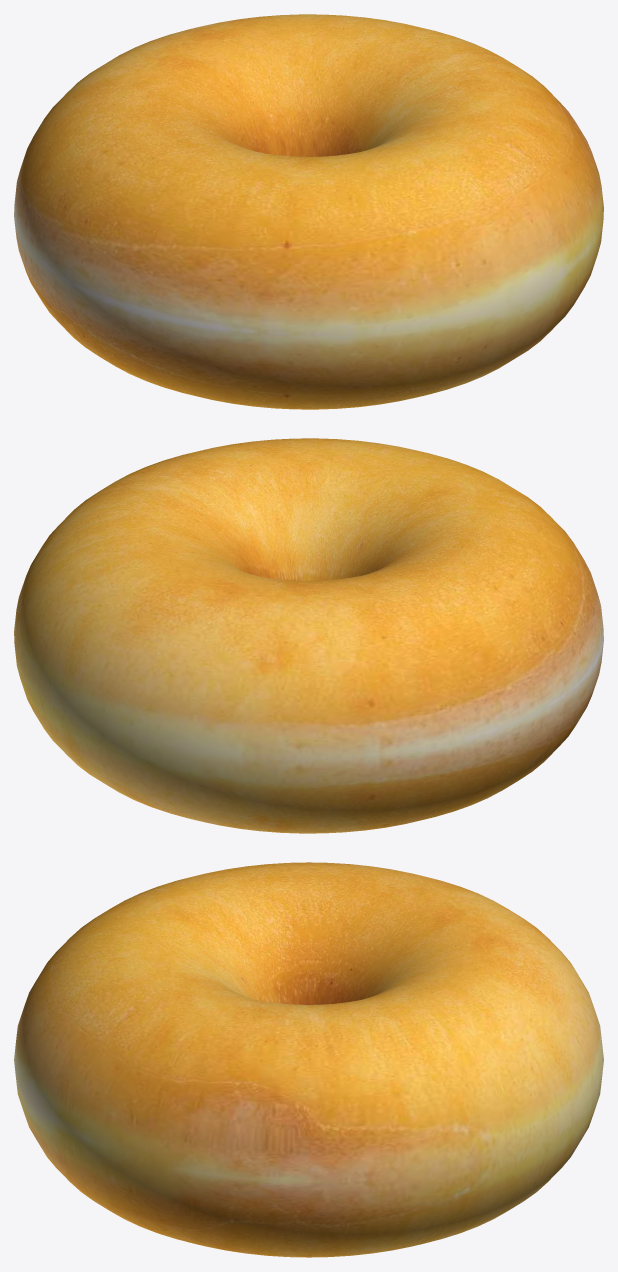
The model's file is Plain dounut mini.glb.
3 renders of one model, top to bottom at view 1: azimuth 30°, elevation 25°; view 2: azimuth 150°, elevation 25°; view 3: azimuth 270°, elevation 25°, orthographic.
Visible parts, largest first — view 1: Torus.001; view 2: Torus.001; view 3: Torus.001.
Boxes of the visible parts, x1,y1,x2,y2 form: Torus.001: [14, 14, 603, 409]; Torus.001: [14, 438, 603, 833]; Torus.001: [14, 862, 603, 1257].
Size of the model in its own units: 0.14 by 0.06 by 0.14.
Materials: 1 (1 with a texture image).
